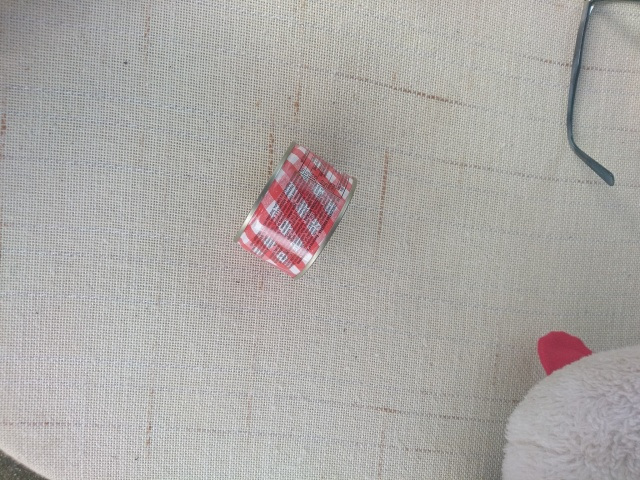Podravka Luncheon Meat 150g: (228, 137, 359, 283)
